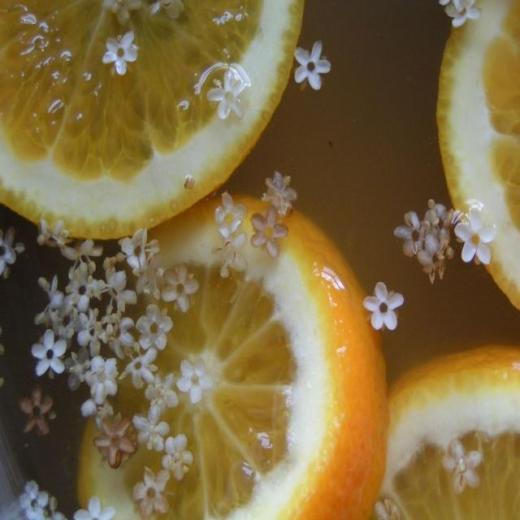Grape: (76, 192, 386, 520), (3, 1, 281, 235), (373, 345, 519, 519), (437, 0, 518, 308)
